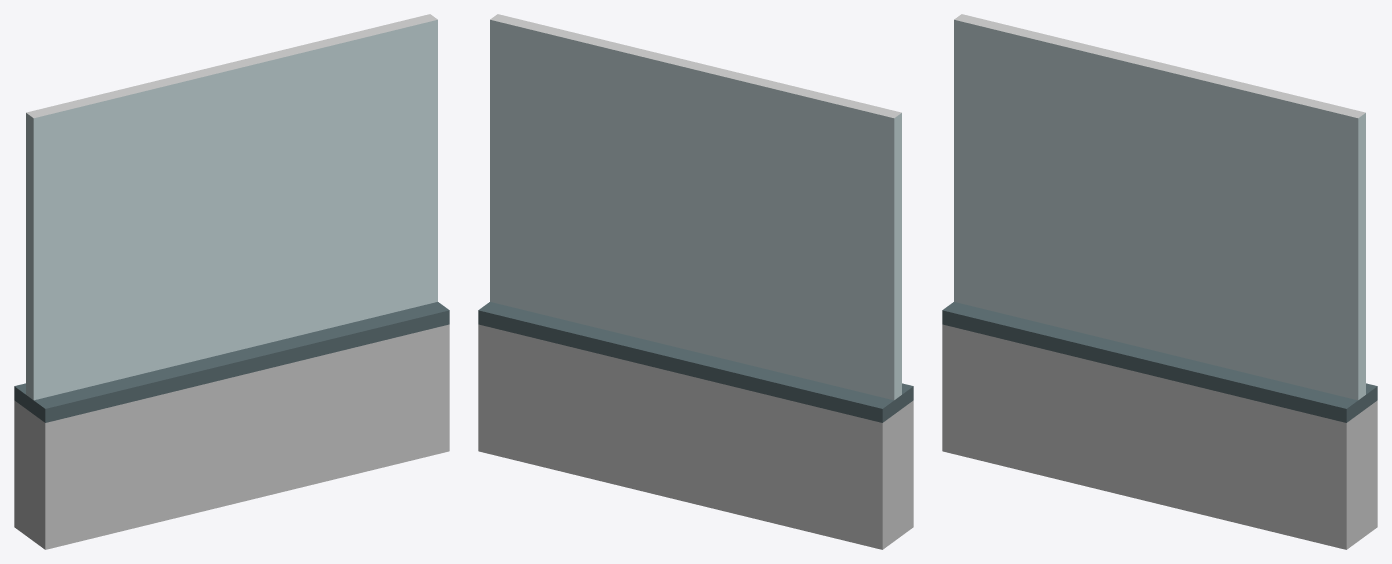
Rendered from scifi_wall_glass.fbx.
The picture shows the model from 3 angles, left to right: view 1: azimuth 30°, elevation 25°; view 2: azimuth 150°, elevation 25°; view 3: azimuth 330°, elevation 25°; orthographic projection.
Visible parts, largest first — view 1: Cube.033; view 2: Cube.033; view 3: Cube.033.
Boxes of the visible parts, x1,y1,x2,y2 form: Cube.033: (14,14,449,549); Cube.033: (478,14,913,549); Cube.033: (942,14,1377,549).
Bounding box in the file's own units: 3 × 3 × 0.4.
